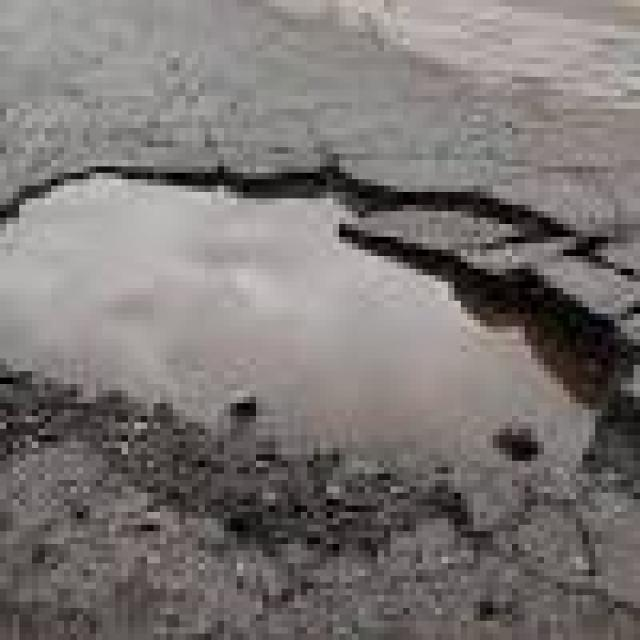Pothole: (0, 179, 640, 486)
